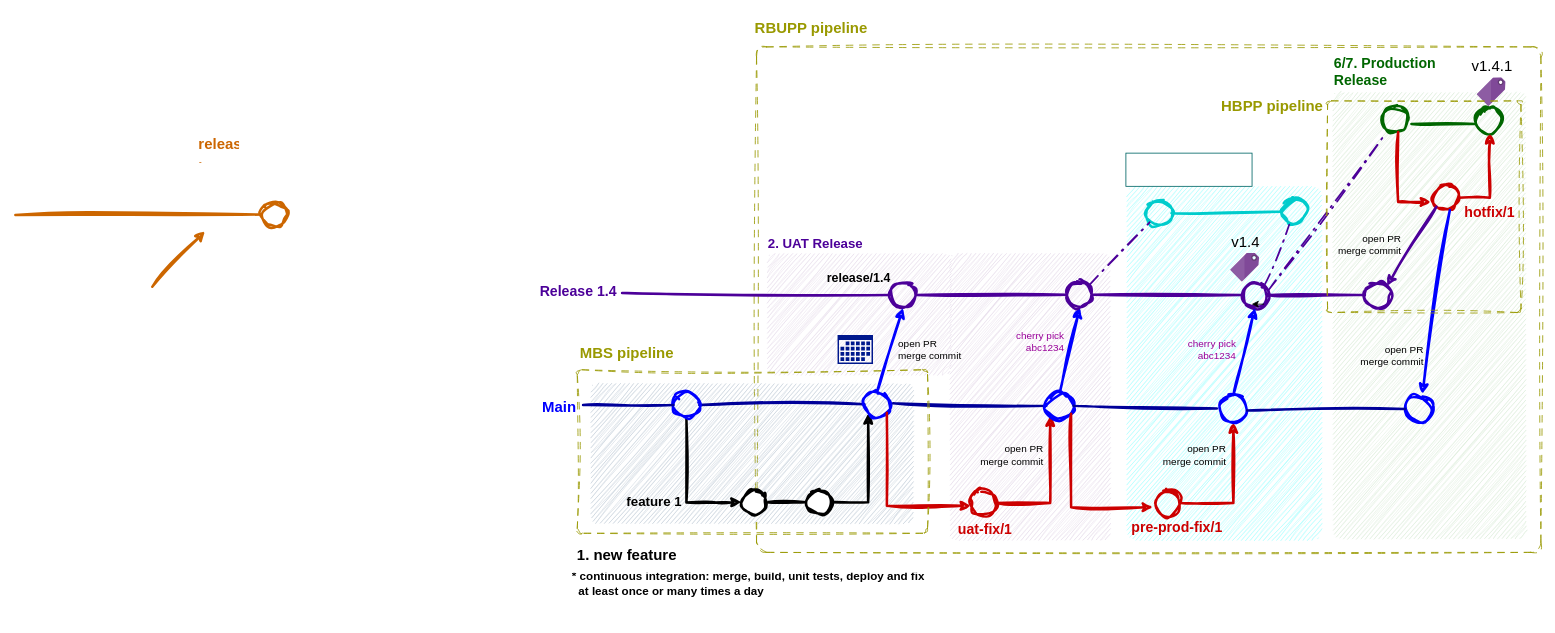
Image size: 1555x633. Some labels were removed from this diagram. The shapes that lost their labels are listed below. From the top down, each one's box as (x1, y1, x2, y2) in pixels, then its label:
(1125, 152, 1252, 186): 5. Pre-Production Release
(837, 334, 873, 364): Release Thursday
